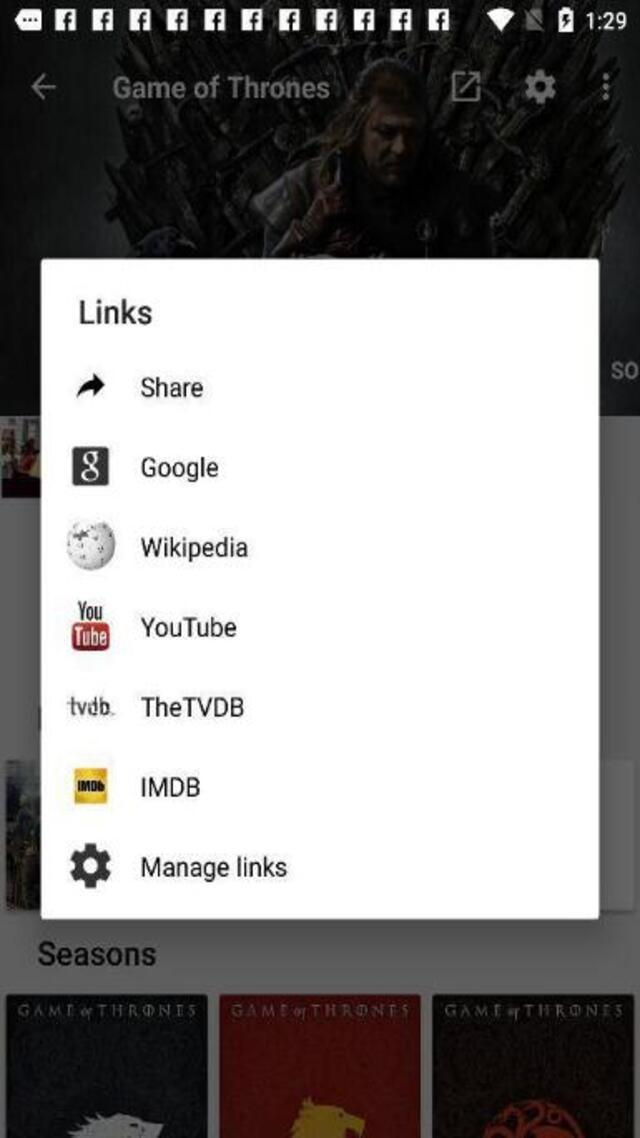Icon: (68, 519, 116, 569), (72, 601, 108, 651), (72, 842, 112, 885), (73, 446, 110, 486), (68, 690, 112, 718), (76, 767, 108, 801), (522, 71, 554, 103), (452, 70, 479, 100), (32, 74, 54, 100), (76, 374, 104, 394), (602, 74, 608, 100)
Image: (6, 994, 207, 1136), (432, 994, 632, 1136), (220, 994, 418, 1136)
Text: (114, 74, 328, 100), (32, 939, 161, 971), (142, 855, 287, 880), (142, 537, 248, 562), (142, 696, 245, 716), (140, 616, 236, 636), (142, 457, 218, 482), (80, 298, 153, 324), (140, 376, 202, 396), (141, 776, 198, 796)
